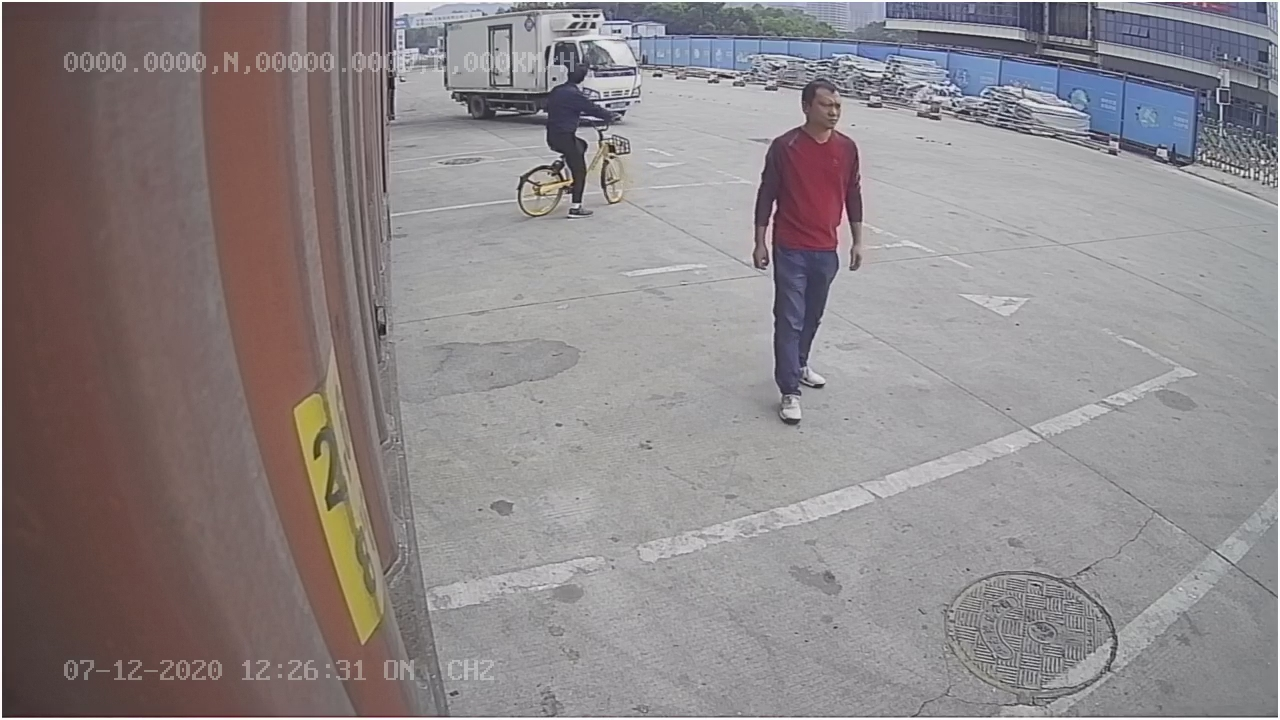person: (744, 76, 868, 432)
